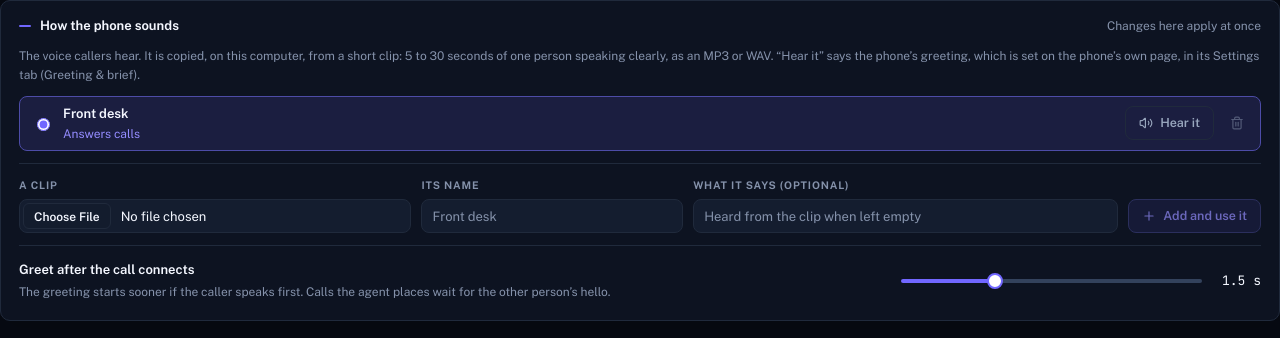
Test case: hearing a voice › says “Speaking…” until the sample has been said, and lets the clip go then
Click the button "Hear it" at point(1170, 123), box left=1125, top=106, right=1214, bottom=140
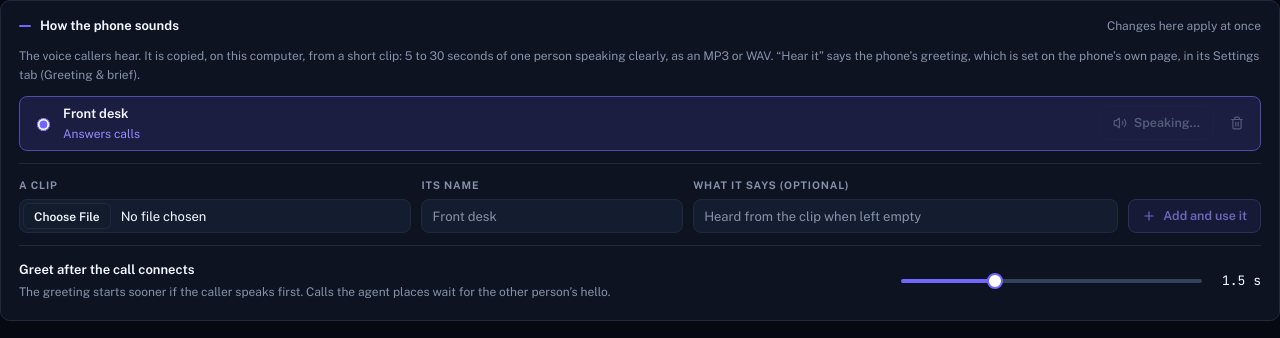
Result: the text "Speaking…" is shown at left=1099, top=106, right=1214, bottom=140
